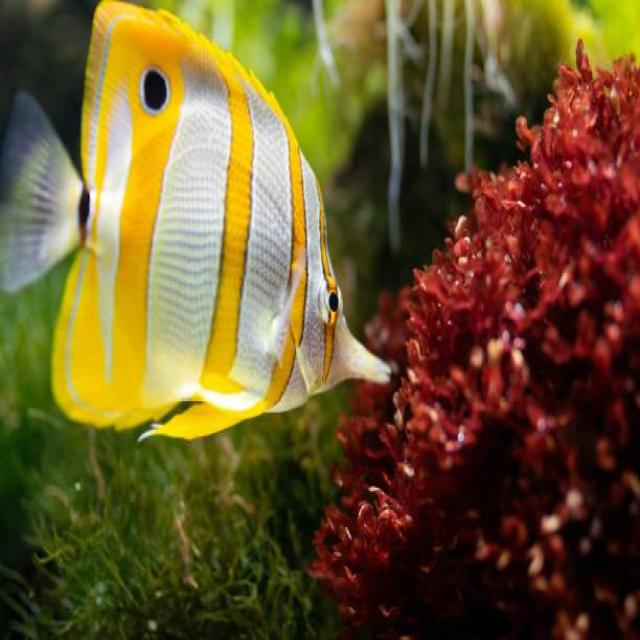ButterflyFish: (0, 0, 392, 433)
